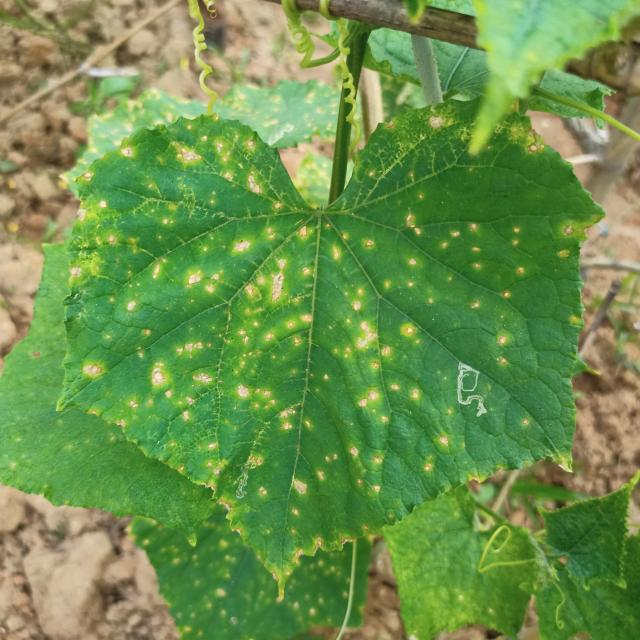disease_cucumber: (79, 115, 573, 531)
